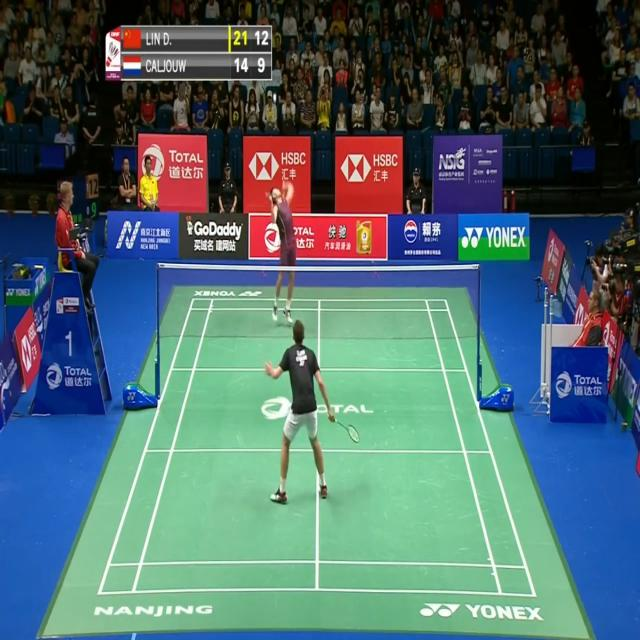Player1: (261, 317, 363, 514)
Player2: (258, 170, 304, 327)
